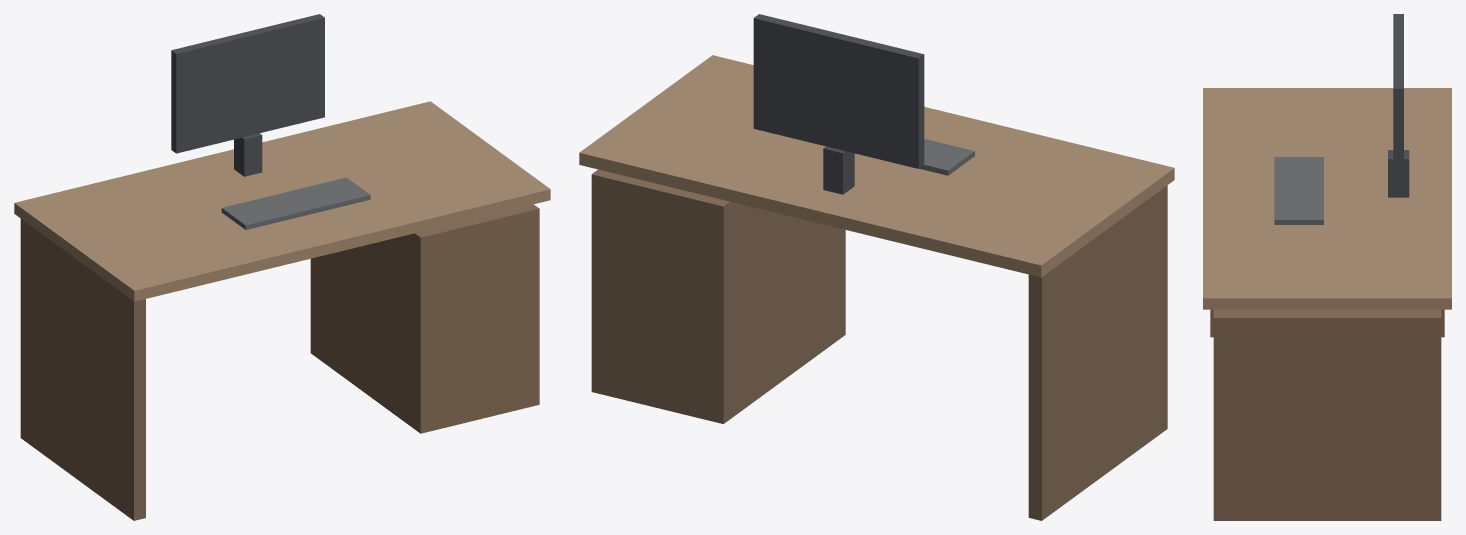
File: 1750-Furniture-interiors-desk.glb
The picture shows the model from 3 angles, left to right: view 1: azimuth 30°, elevation 25°; view 2: azimuth 150°, elevation 25°; view 3: azimuth 270°, elevation 25°; orthographic projection. The views are drawn at different scales.
Visible parts, largest first — view 1: Furniture (interiors)/desk; view 2: Furniture (interiors)/desk; view 3: Furniture (interiors)/desk.
Boxes of the visible parts, <box> form: Furniture (interiors)/desk: <box>14,14,550,520</box>; Furniture (interiors)/desk: <box>579,14,1174,520</box>; Furniture (interiors)/desk: <box>1203,14,1451,520</box>.
Size of the model in its own units: 1.4 by 1.19 by 0.7.
